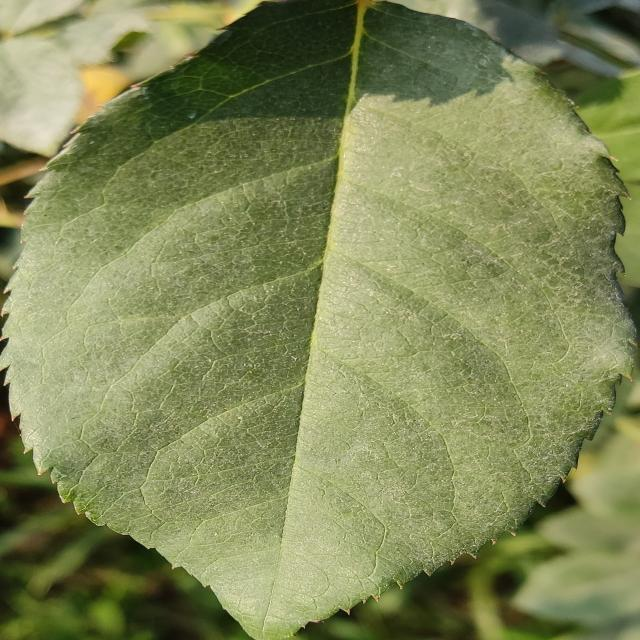Rose: (1, 1, 637, 638)
